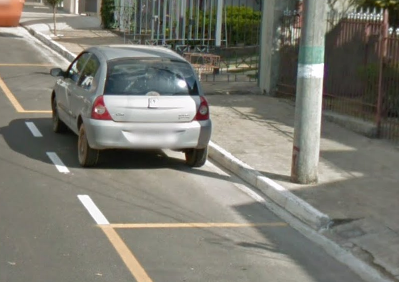car: (48, 36, 214, 177)
